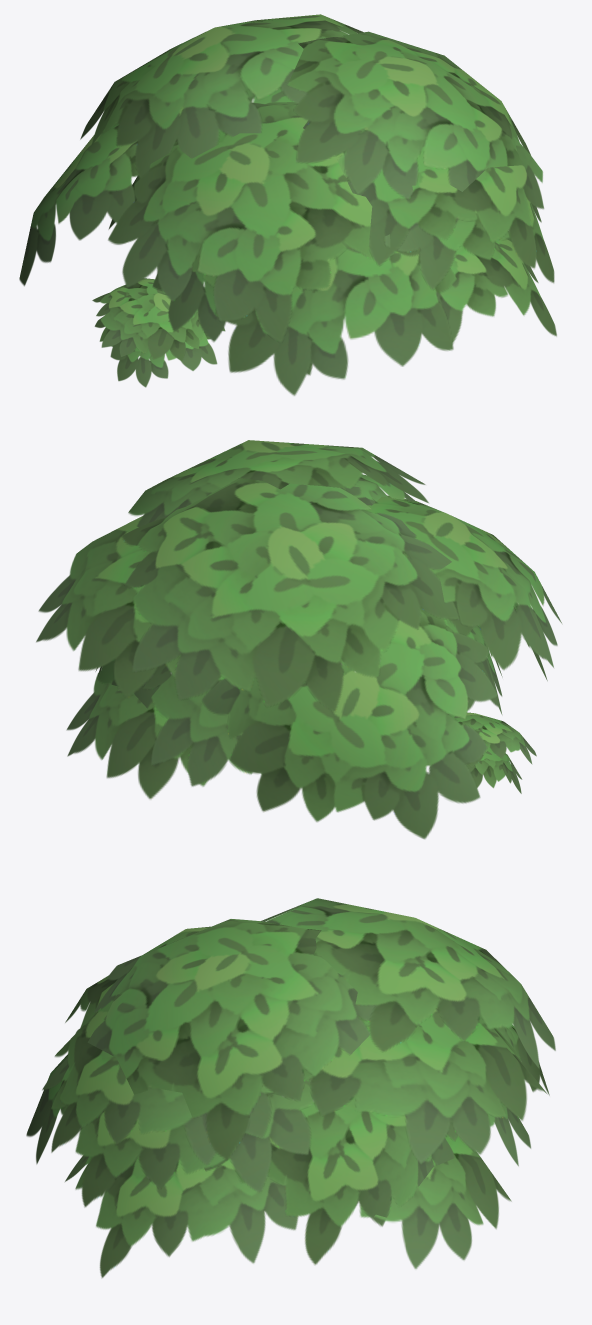
The model's file is bush.glb.
The picture shows the model from 3 angles, top to bottom: view 1: azimuth 30°, elevation 25°; view 2: azimuth 150°, elevation 25°; view 3: azimuth 270°, elevation 25°; orthographic projection. The views are drawn at different scales.
Parts seen in each view (by area): view 1: Bush_Large; view 2: Bush_Large; view 3: Bush_Large.
Part boxes in pixels (x1,y1,x2,y2): Bush_Large: (19,14,556,395); Bush_Large: (36,440,561,839); Bush_Large: (26,898,555,1277).
Bounding box in the file's own units: 2.07 × 1.19 × 2.07.
Materials: 1 (1 with a texture image).
